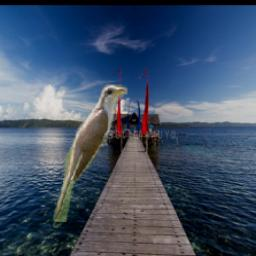Cuckoo: (52, 84, 126, 222)
